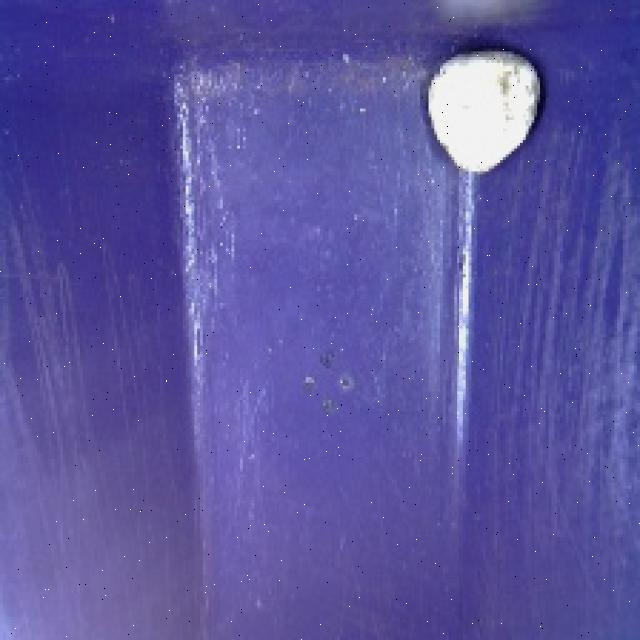cobbles: (412, 33, 554, 181)
